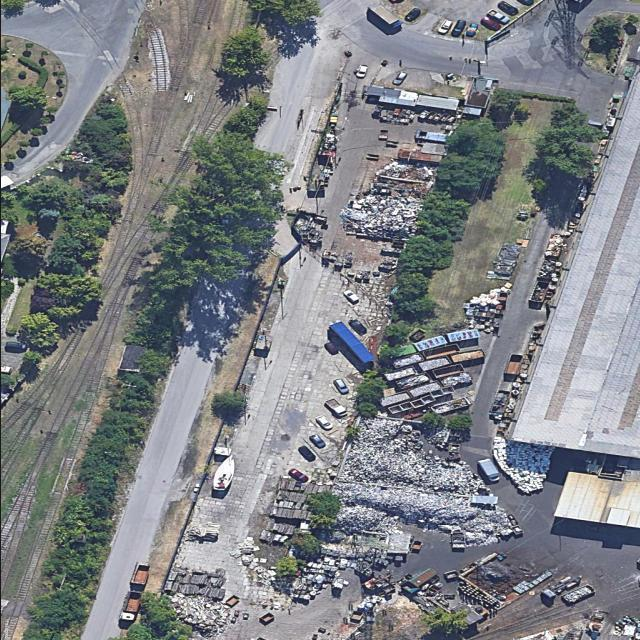dump_site: (325, 482, 518, 548), (338, 415, 493, 496), (335, 193, 425, 240), (486, 436, 555, 497), (502, 321, 547, 414), (160, 592, 234, 639), (457, 278, 512, 336), (374, 156, 437, 182), (367, 177, 430, 198), (379, 105, 418, 124), (59, 146, 95, 166), (430, 397, 468, 415), (560, 584, 595, 603), (377, 390, 412, 407), (407, 381, 441, 397), (438, 371, 472, 387), (417, 356, 450, 372), (390, 353, 423, 368), (382, 367, 415, 381), (543, 234, 564, 256), (529, 281, 549, 302), (537, 258, 556, 278)
